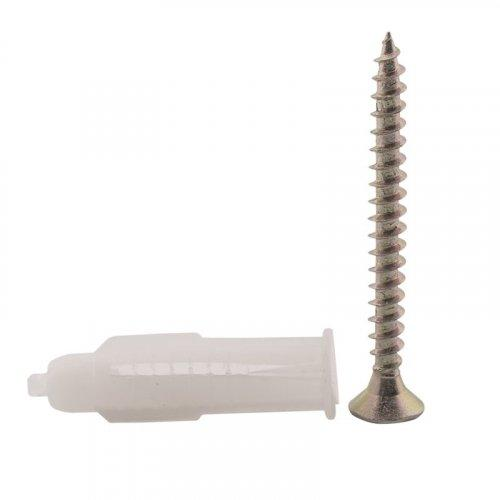Tornillo: (346, 26, 427, 425)
